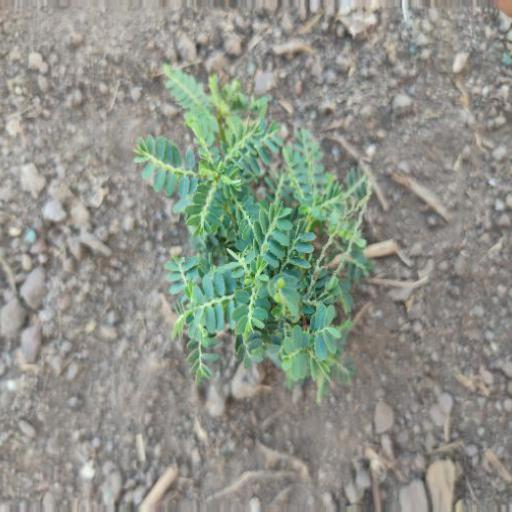weed: (135, 67, 377, 393)
